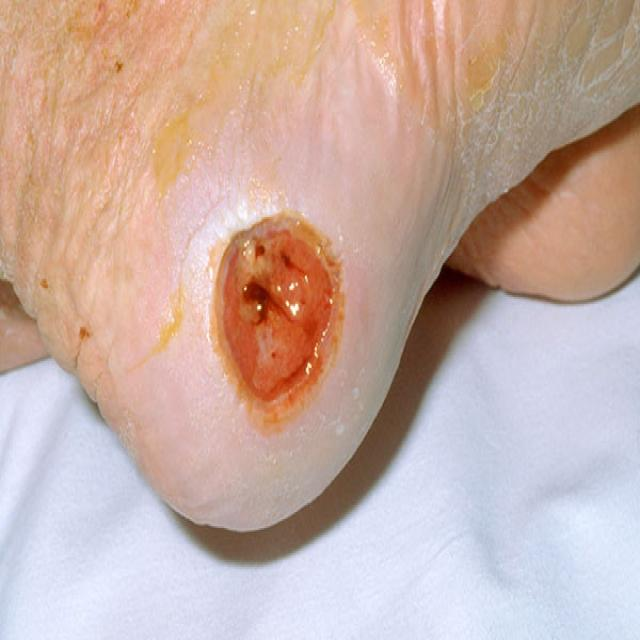stage-3: (214, 215, 343, 422)
